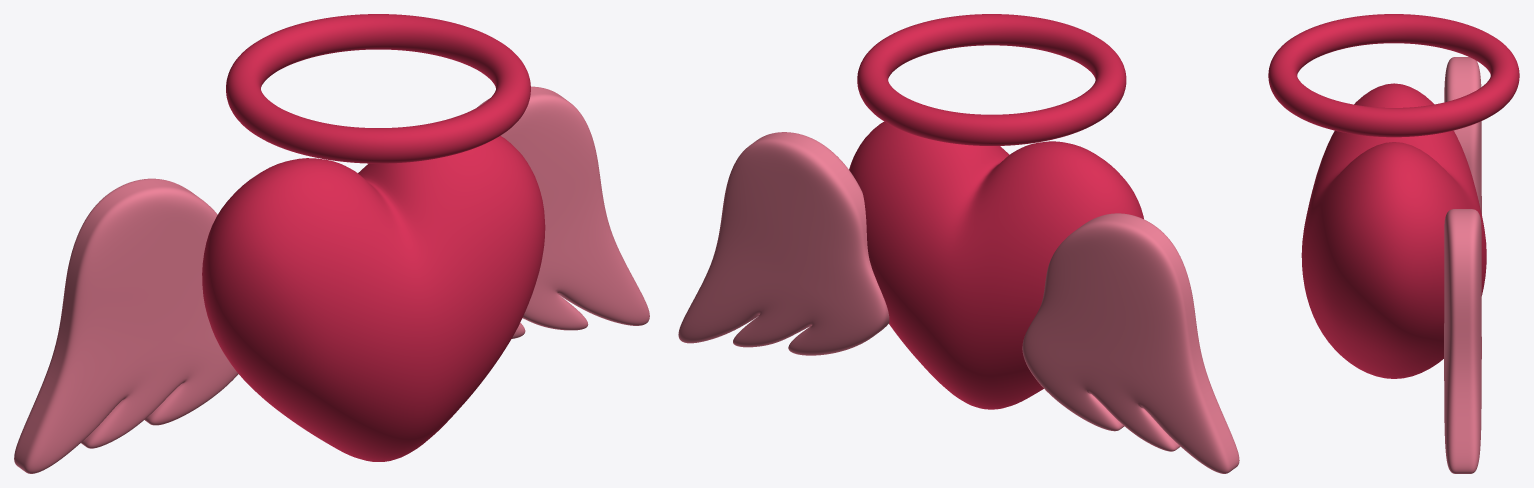
File: heart.element-new.glb
3 views of the same model, side by side, from view 1: azimuth 30°, elevation 25°; view 2: azimuth 150°, elevation 25°; view 3: azimuth 270°, elevation 25° (orthographic). The views are drawn at different scales.
Visible parts, largest first — view 1: Cube, Vert.001, Circle; view 2: Vert.001, Cube, Circle; view 3: Cube, Circle, Vert.001.
Part boxes in pixels (left/top/right/bottom): Cube: left=202, top=136, right=545, bottom=461; Vert.001: left=14, top=86, right=649, bottom=473; Circle: left=226, top=14, right=530, bottom=163; Vert.001: left=678, top=132, right=1239, bottom=473; Cube: left=849, top=121, right=1143, bottom=409; Circle: left=857, top=14, right=1126, bottom=145; Cube: left=1301, top=83, right=1486, bottom=378; Circle: left=1268, top=14, right=1519, bottom=137; Vert.001: left=1444, top=57, right=1481, bottom=473.
Bounding box in the file's own units: 1.34 × 0.7866 × 0.5688.
